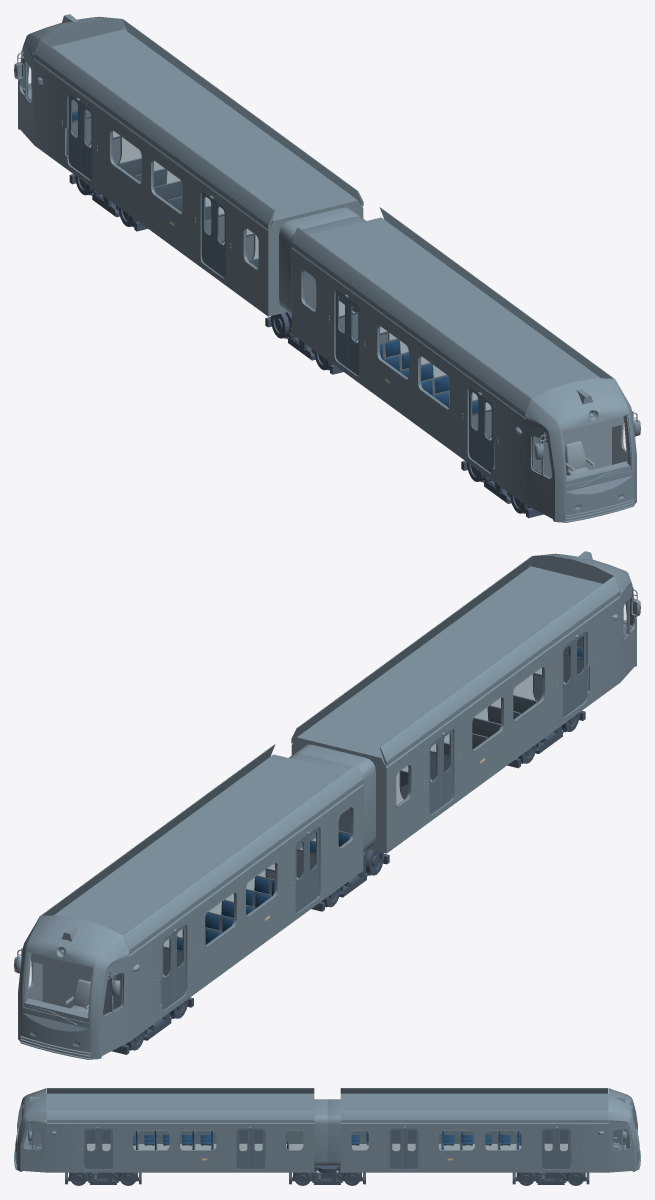
Rendered from Train_Joined.fbx.
3 renders of one model, top to bottom at view 1: azimuth 30°, elevation 25°; view 2: azimuth 150°, elevation 25°; view 3: azimuth 270°, elevation 25°, orthographic. The views are drawn at different scales.
Parts seen in each view (by area): view 1: train; view 2: train; view 3: train.
Boxes of the visible parts, left/top/right/bottom form: train: left=14, top=14, right=640, bottom=522; train: left=14, top=551, right=640, bottom=1059; train: left=14, top=1088, right=640, bottom=1185.
Size of the model in its own units: 292 by 389 by 2658.
